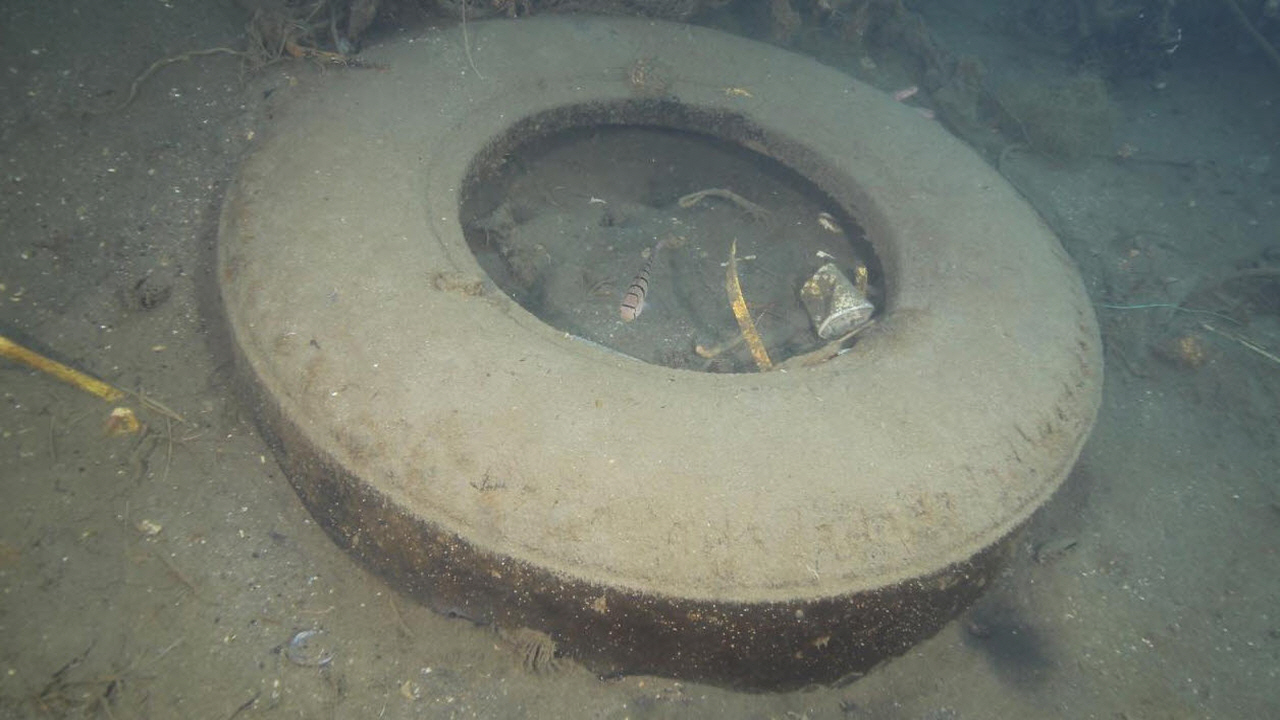tire: (215, 14, 1107, 692)
